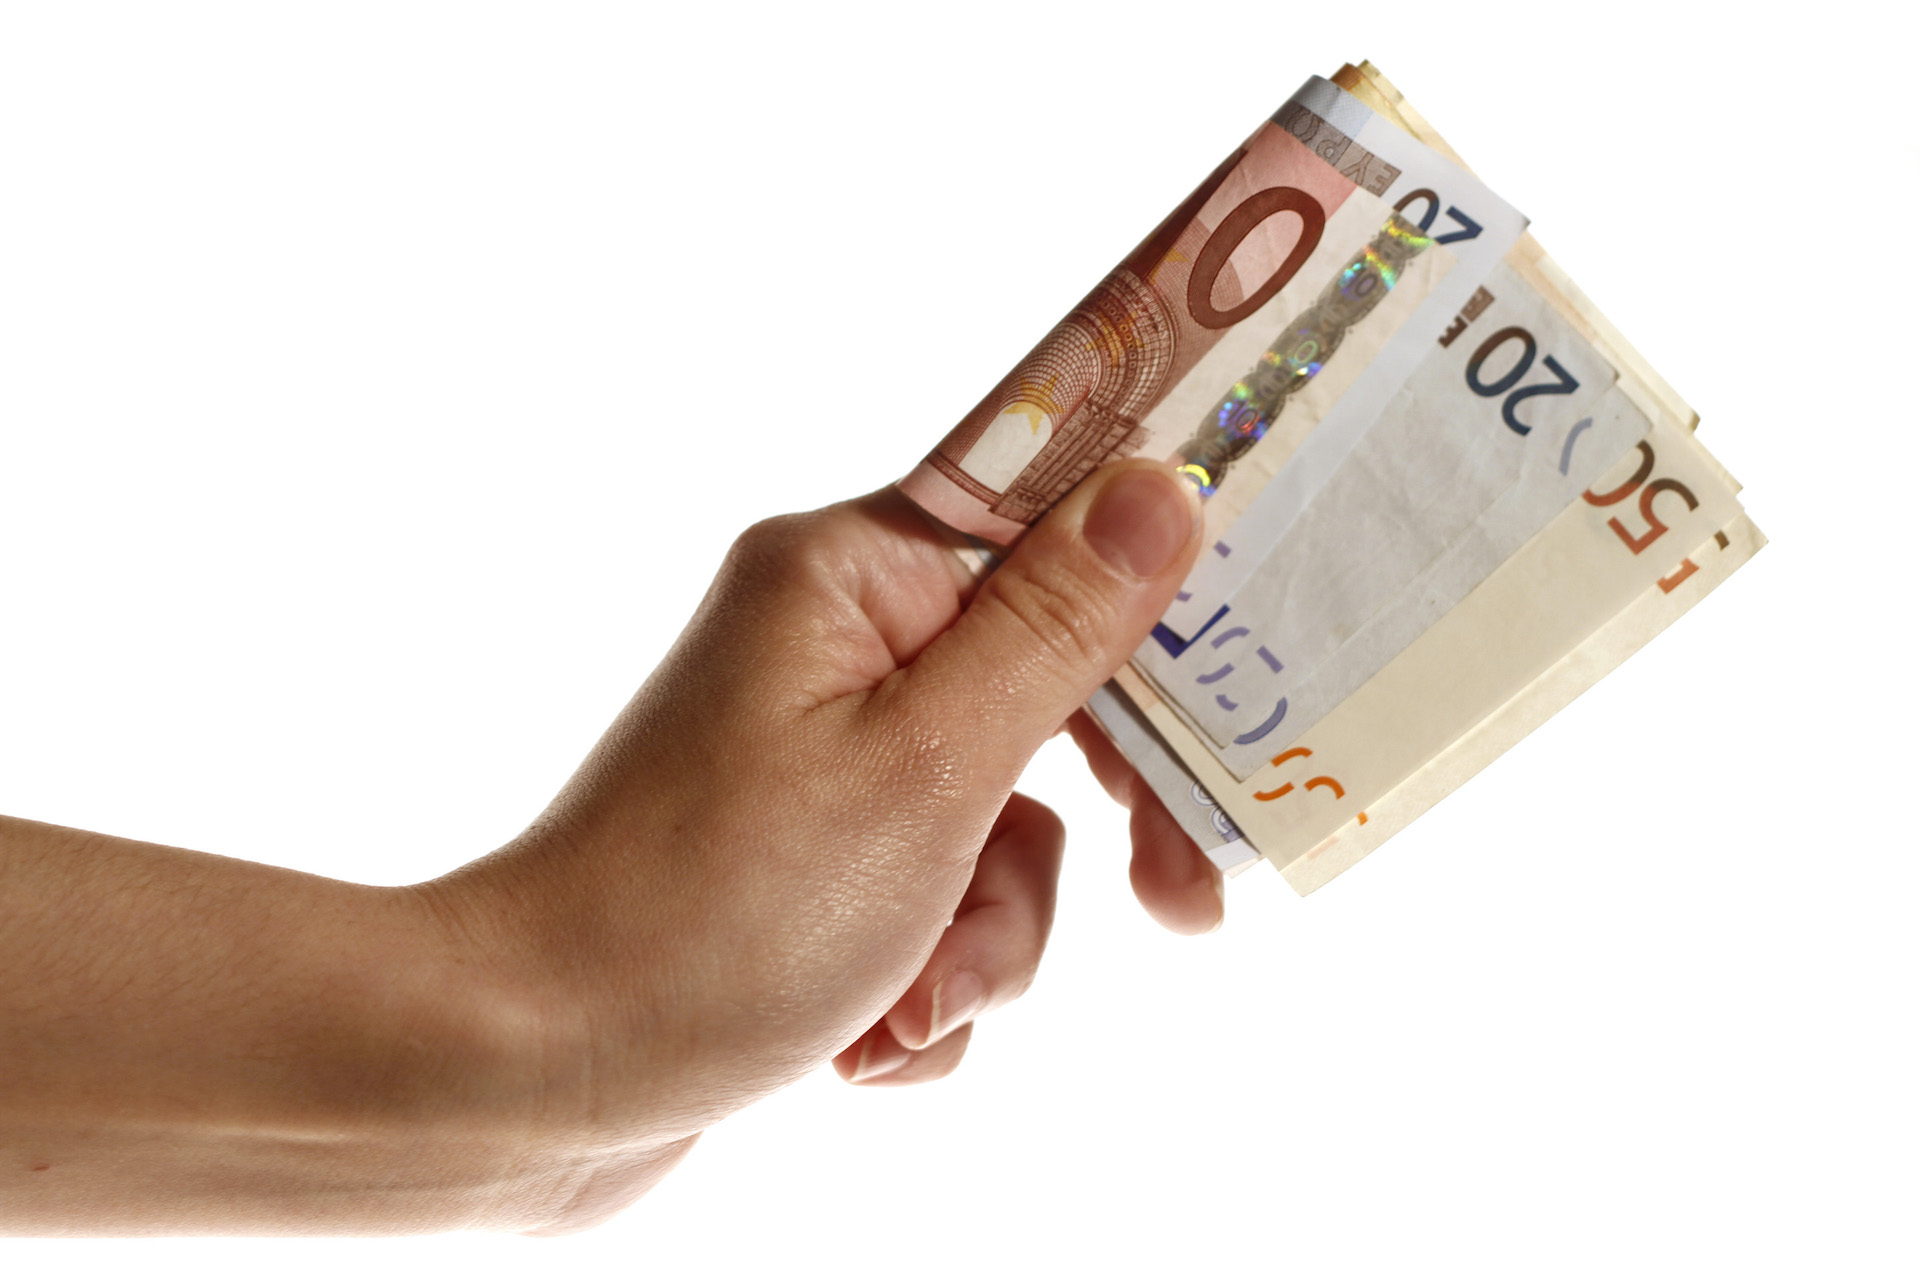billete: (886, 59, 1769, 896)
